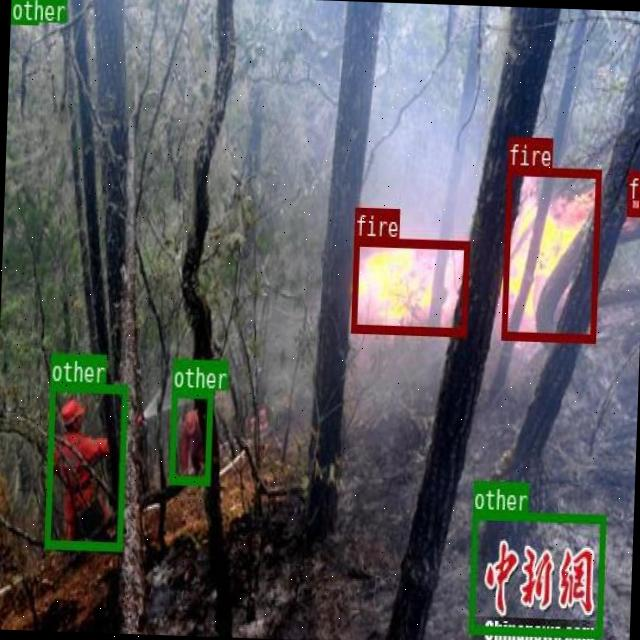fire: (500, 164, 600, 340), (350, 237, 468, 334), (624, 168, 640, 213)
